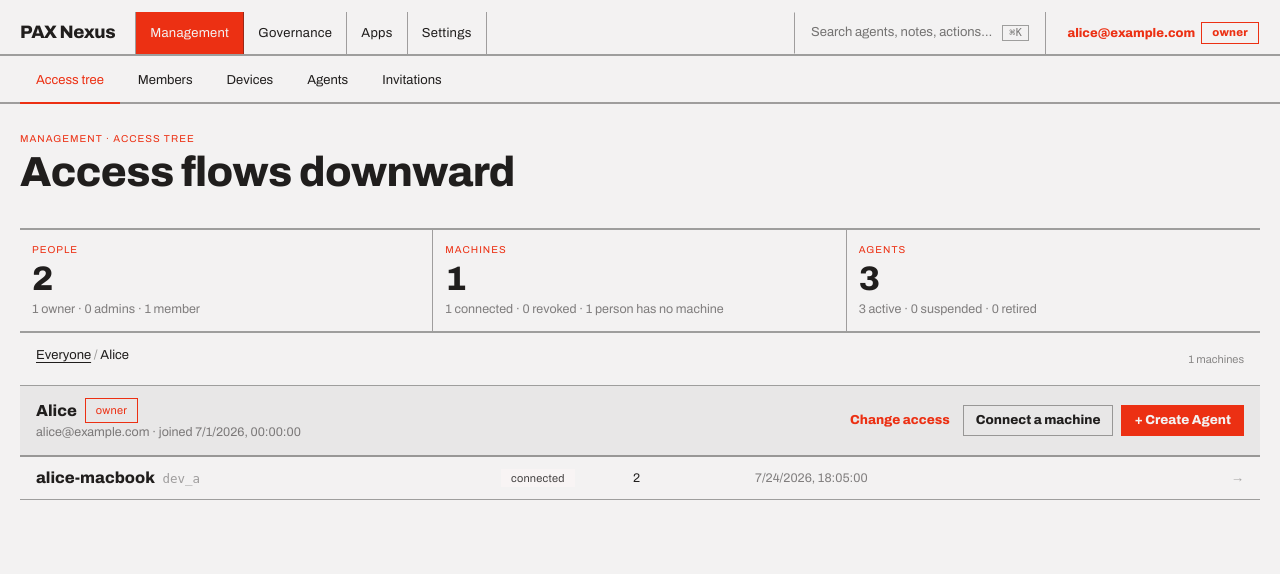
Test: Access tree · agents level › never commits an error card at any point while drilling into a machine
Click the text "alice-macbook".
click(96, 478)  # box [36, 469, 155, 486]
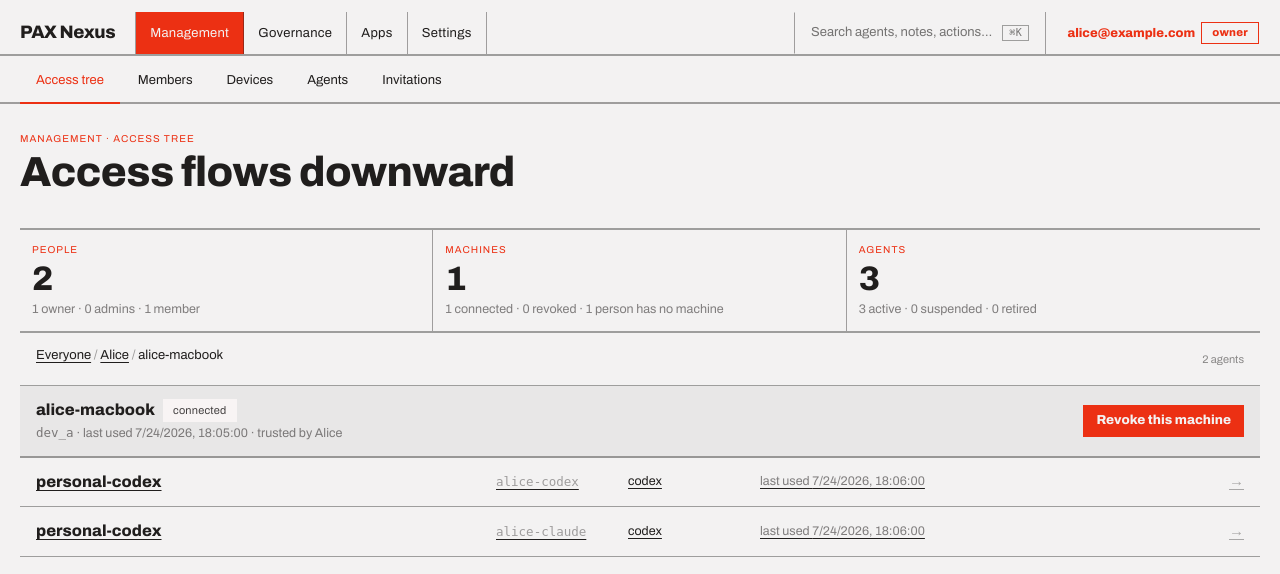
Expected: the text "alice-codex" is shown, [496, 474, 579, 489]
